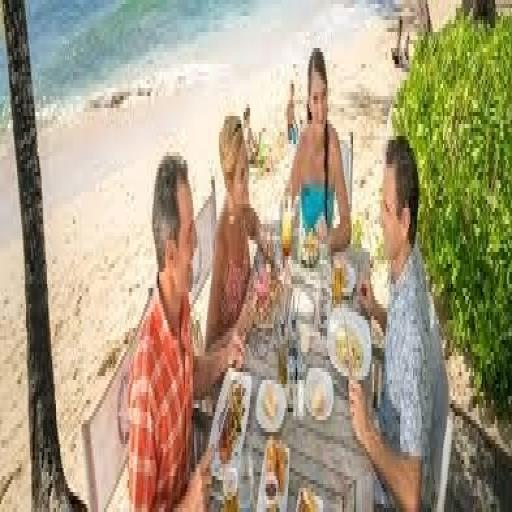eating: (120, 40, 452, 508)
